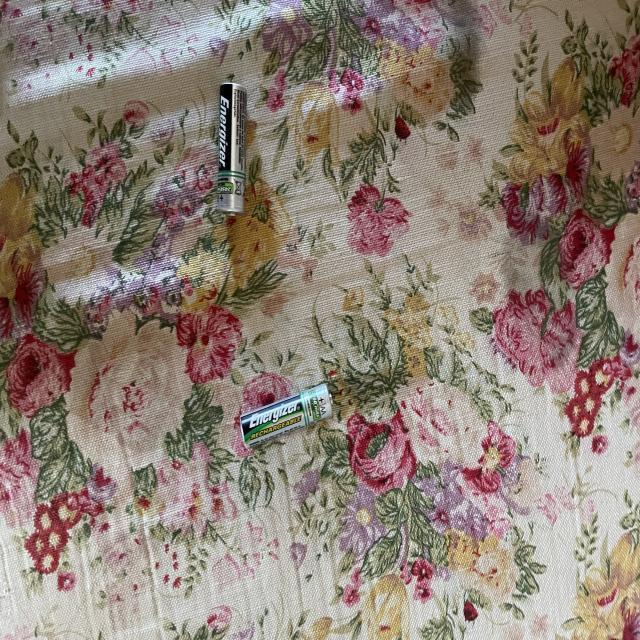Hazard: (240, 381, 336, 450), (214, 80, 248, 222)
